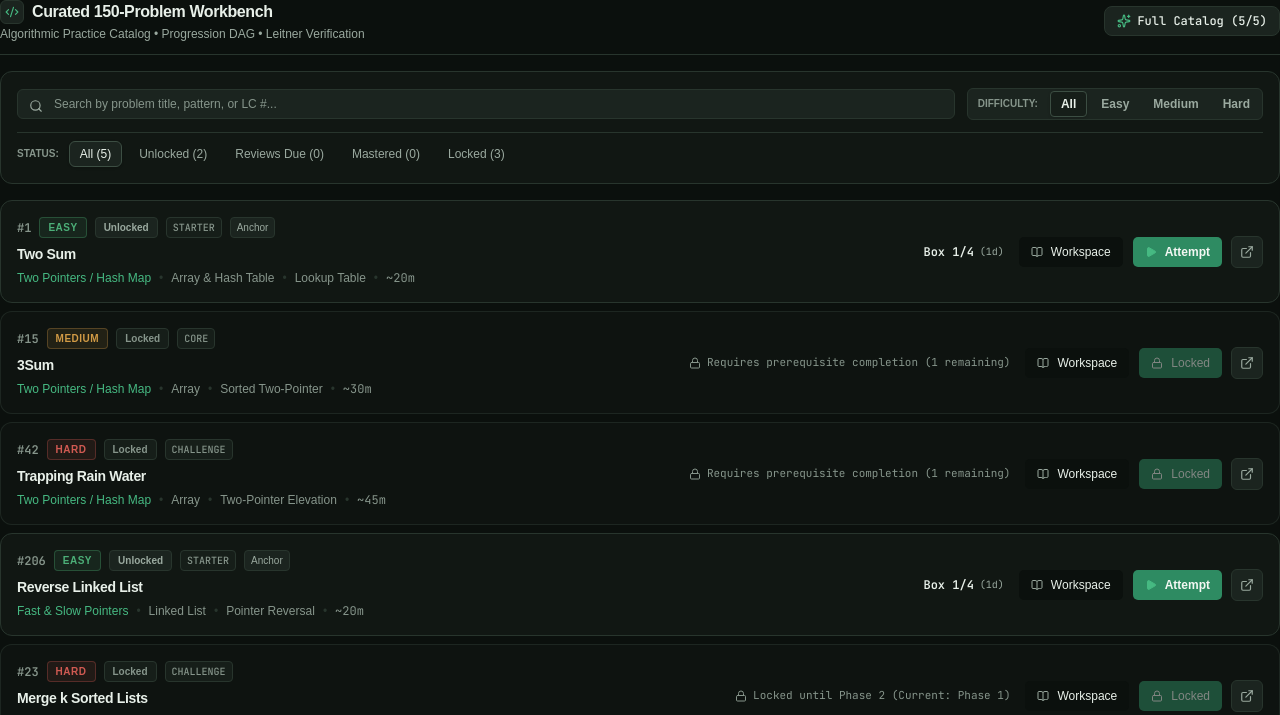
Scenario: Zone 5: DSA Problem Workbench › 3. filters problems by difficulty pill buttons
Click the button "easy" at coordinates (1115, 104), box x1=1091 y1=92 x2=1139 y2=116
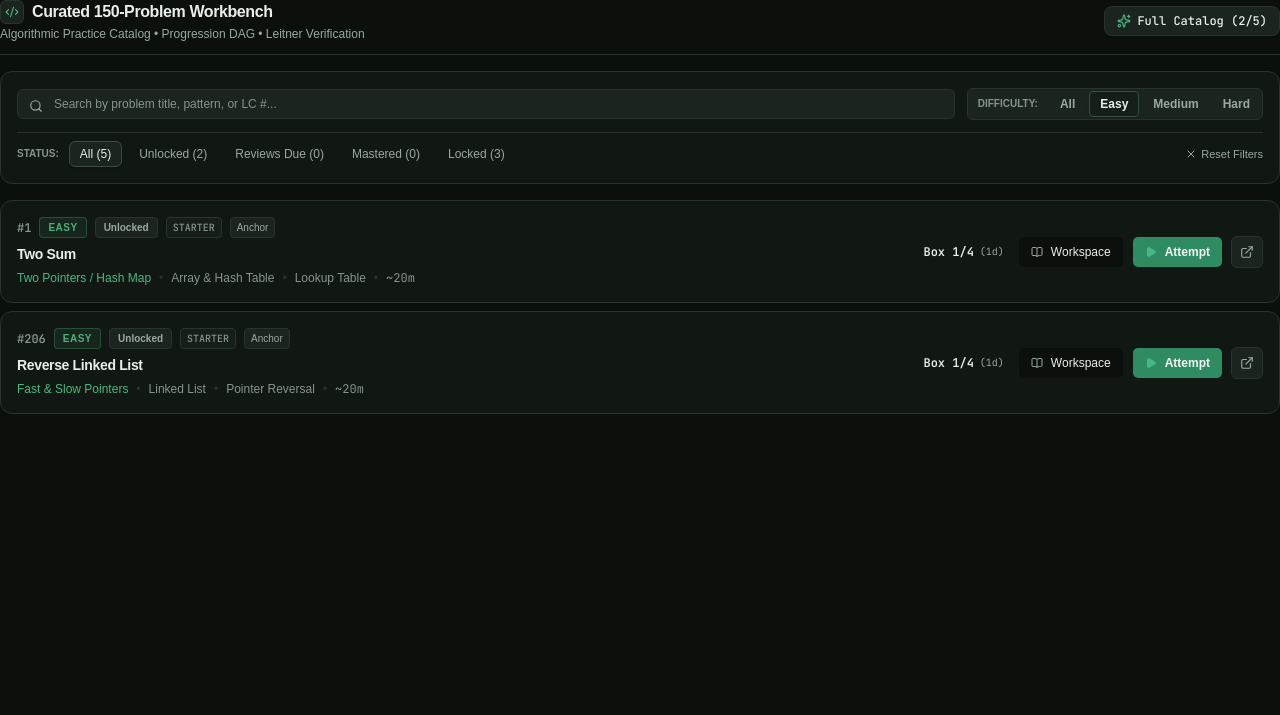
Expected: the heading "Two Sum" is shown, x1=17 y1=246 x2=76 y2=262
Expected: the heading "3Sum" is gone
Expected: the heading "Trapping Rain Water" is gone
Click the button "hard" at coordinates (1236, 104), box x1=1213 y1=92 x2=1260 y2=116
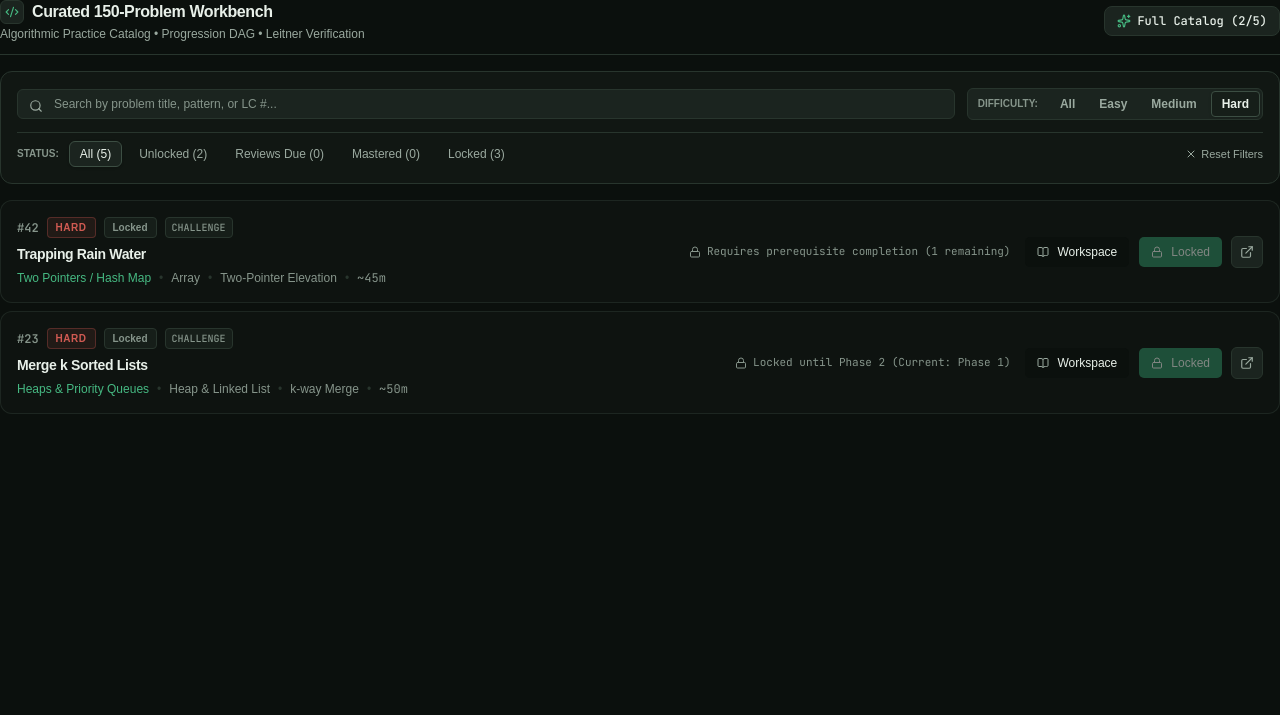
Expected: the heading "Trapping Rain Water" is shown, x1=17 y1=246 x2=146 y2=262
Expected: the heading "Merge k Sorted Lists" is shown, x1=17 y1=357 x2=148 y2=373
Expected: the heading "Two Sum" is gone
